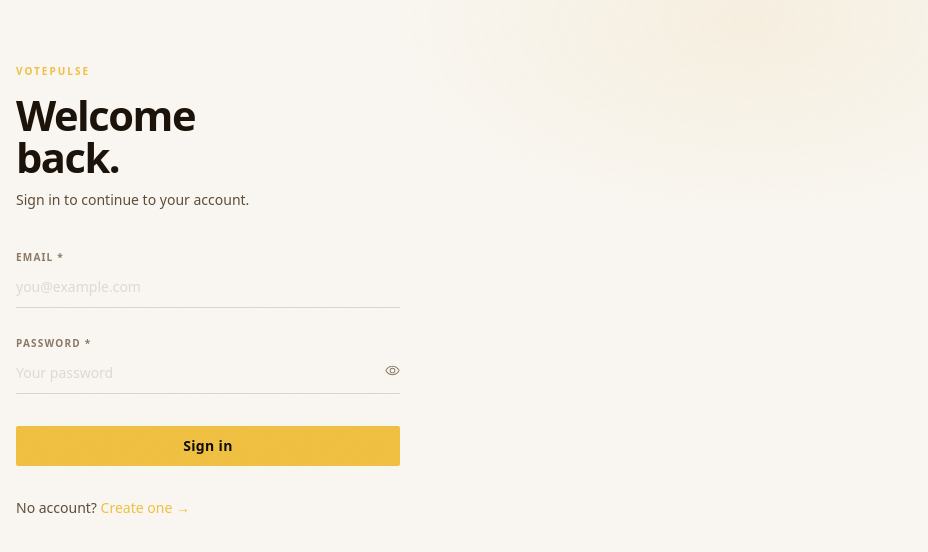
Test: Login Page › shows validation error for short password
Type "test@test.com" into the field with placeholder "you@example.com" at (208, 291), box top-left (16, 273), bottom-right (400, 308)
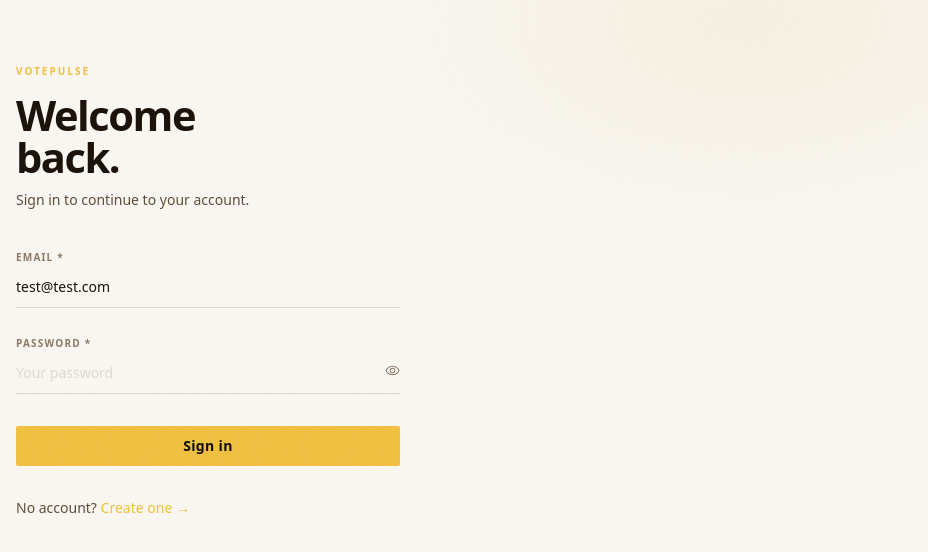
Type "short" into the password field with placeholder "Your password" at (208, 377), box top-left (16, 359), bottom-right (400, 394)
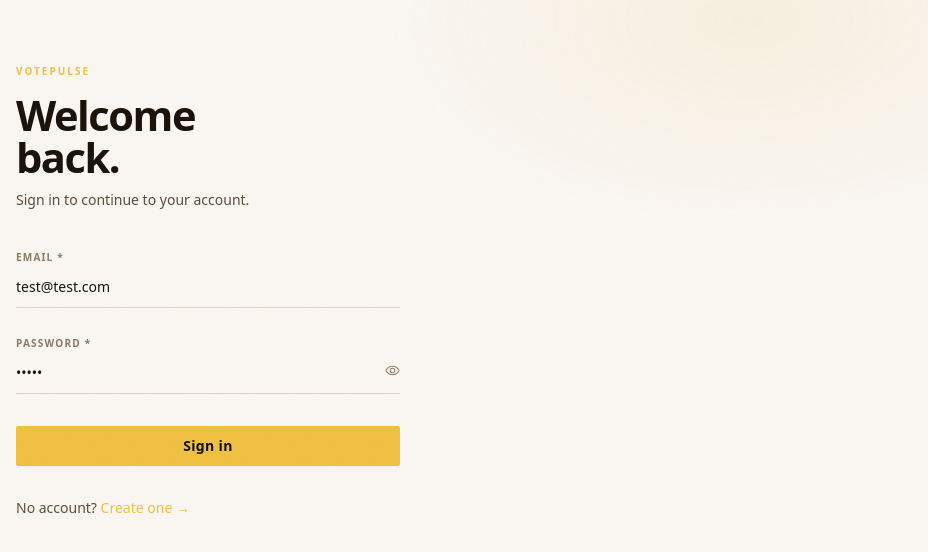
Click the button "Sign in" at (208, 446), box top-left (16, 426), bottom-right (400, 466)
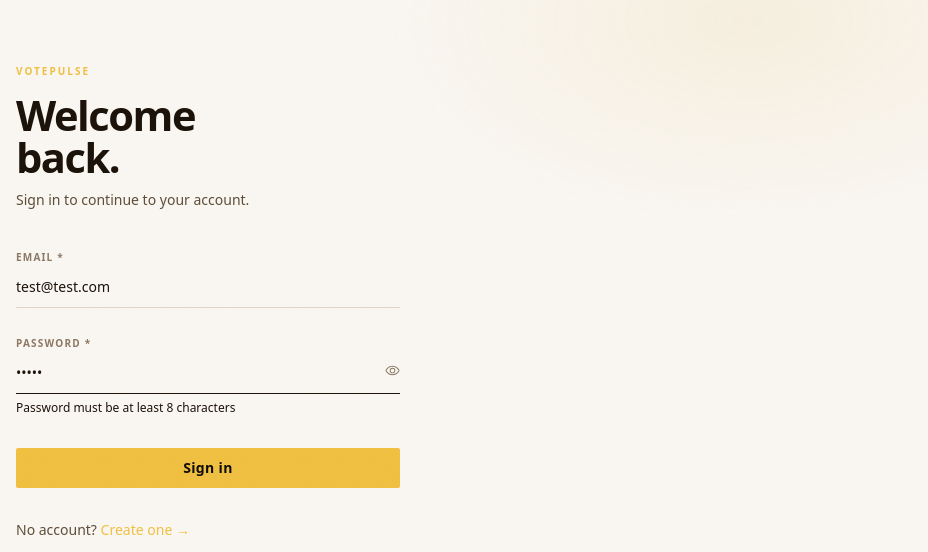
expect the text "Password must be at least 8 characters" is shown: met, box top-left (16, 399), bottom-right (235, 416)
